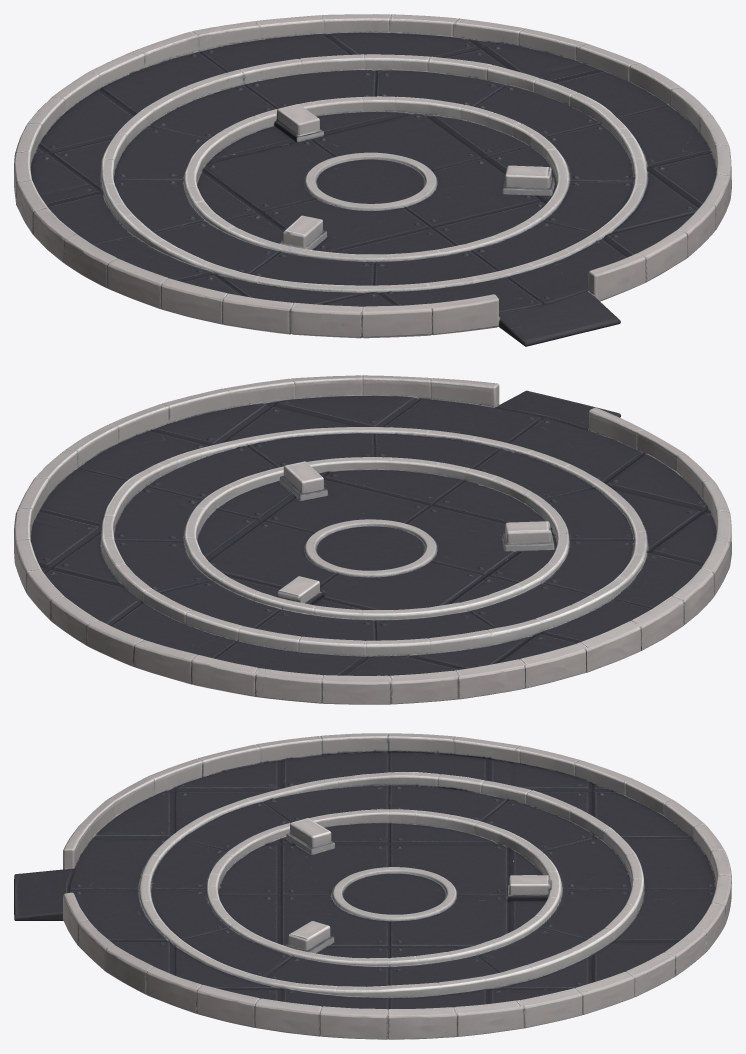
The model's file is Nivel5_SOL_A_Terrazas.fbx.
The picture shows the model from 3 angles, top to bottom: view 1: azimuth 30°, elevation 25°; view 2: azimuth 150°, elevation 25°; view 3: azimuth 270°, elevation 25°; orthographic projection. The views are drawn at different scales.
Visible parts, largest first — view 1: Mesh_0; view 2: Mesh_0; view 3: Mesh_0.
Boxes of the visible parts, left/top/right/bottom form: Mesh_0: left=14, top=14, right=731, bottom=346; Mesh_0: left=14, top=375, right=731, bottom=704; Mesh_0: left=14, top=733, right=731, bottom=1039.
Bounding box in the file's own units: 180 × 8.56 × 192.
Materials: 1 (1 with a texture image).
